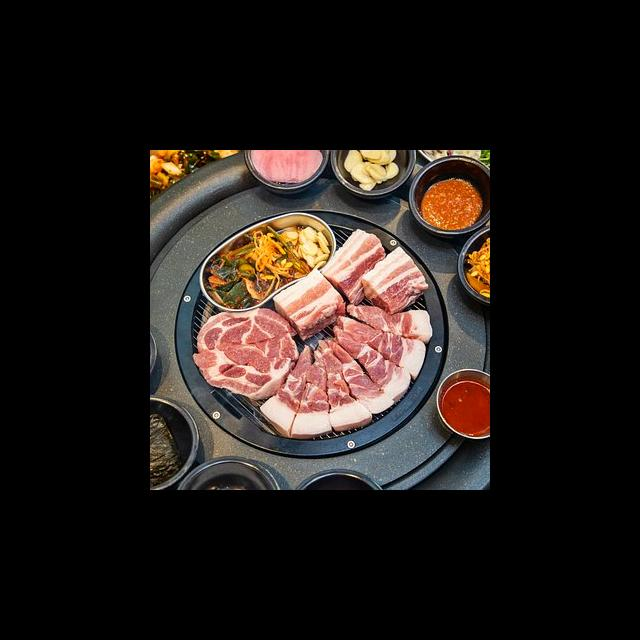pork: (297, 335, 399, 413), (198, 309, 291, 393), (366, 248, 426, 310), (279, 277, 343, 335), (329, 231, 381, 301)
